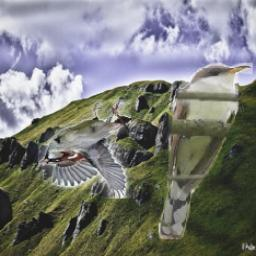Cuckoo: (159, 64, 253, 240)
Sparrow: (39, 100, 132, 200)
